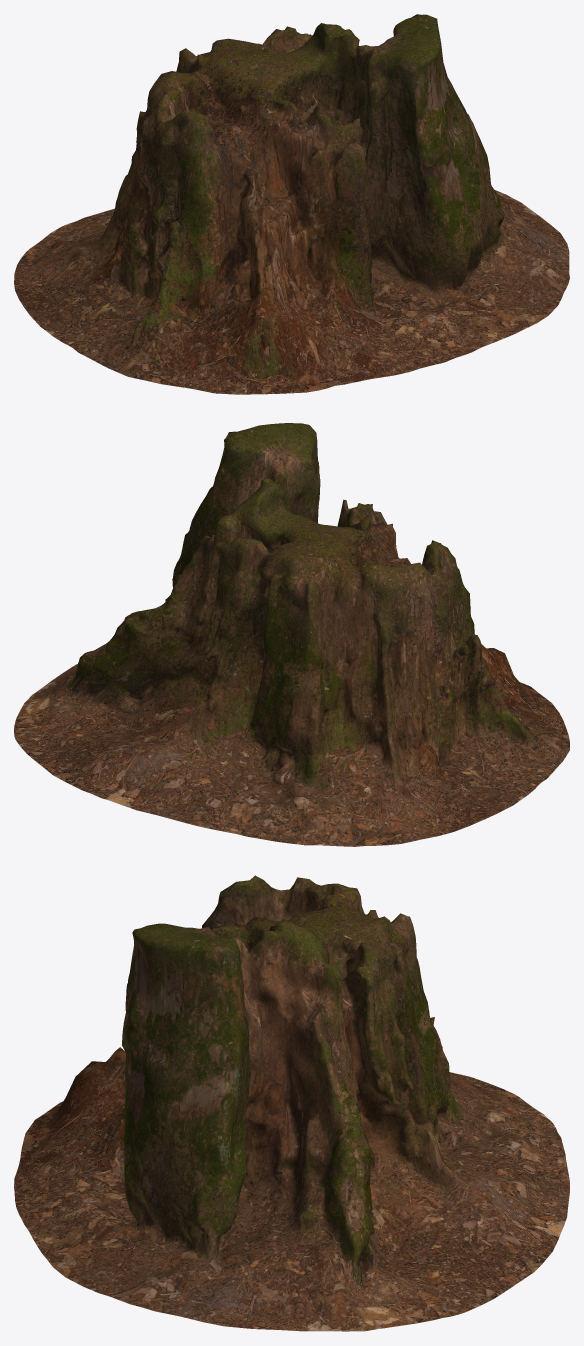
Rendered from damn-stump.fbx.
3 renders of one model, top to bottom at view 1: azimuth 30°, elevation 25°; view 2: azimuth 150°, elevation 25°; view 3: azimuth 270°, elevation 25°, orthographic. The views are drawn at different scales.
Visible parts, largest first — view 1: Aset_nature_tree_M_wd0pfjxbw_LOD0; view 2: Aset_nature_tree_M_wd0pfjxbw_LOD0; view 3: Aset_nature_tree_M_wd0pfjxbw_LOD0.
Boxes of the visible parts, left/top/right/bottom form: Aset_nature_tree_M_wd0pfjxbw_LOD0: left=14, top=14, right=569, bottom=394; Aset_nature_tree_M_wd0pfjxbw_LOD0: left=14, top=423, right=569, bottom=846; Aset_nature_tree_M_wd0pfjxbw_LOD0: left=14, top=875, right=569, bottom=1331.
Size of the model in its own units: 200 by 103 by 172.
